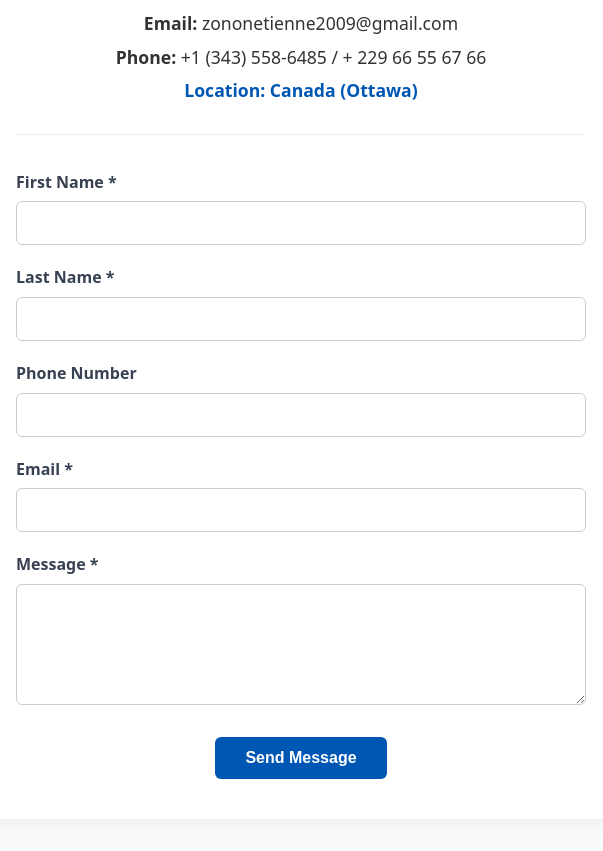
Test: rejects an empty contact form before calling the API
(page scrolled)
What coordinates should you click on to do the following:
click the button "Send Message"
I would click on:
 (301, 758)
Its box is 215,737 -> 387,779.
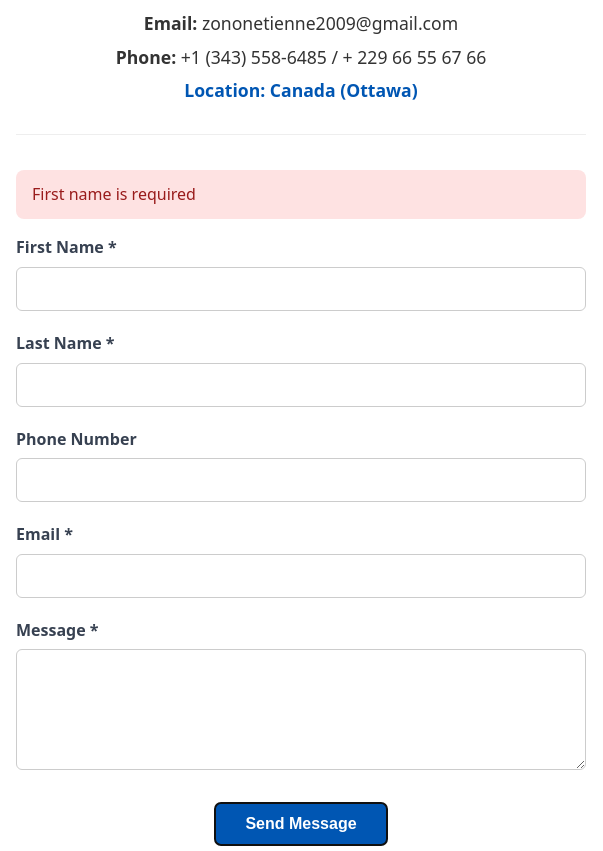
Result: the message reads "First name is required" at 32,183 -> 196,205
